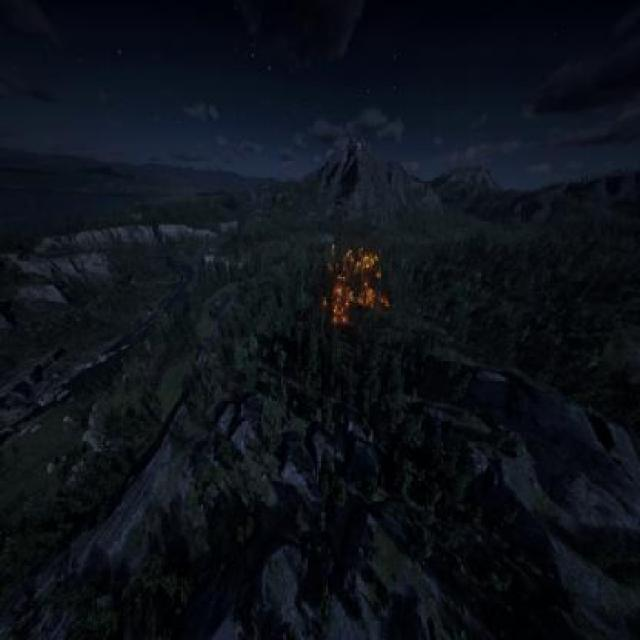Fire: (312, 236, 398, 339)
